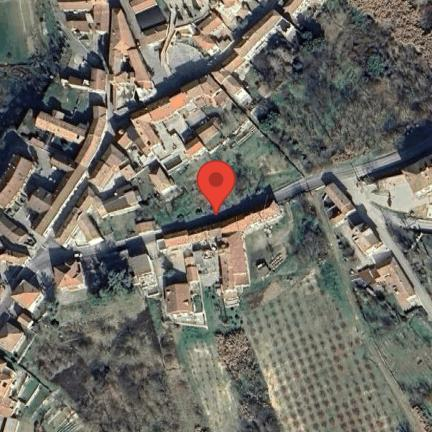area_open: (350, 166, 409, 220)
built: (90, 78, 228, 197), (2, 253, 87, 426), (1, 106, 110, 240), (60, 3, 159, 120), (163, 201, 279, 298), (217, 3, 314, 111), (131, 3, 245, 58), (58, 185, 142, 253), (3, 212, 38, 294), (165, 255, 204, 327), (360, 254, 413, 300), (323, 180, 360, 233), (405, 150, 429, 216), (63, 68, 107, 93), (126, 258, 156, 294), (355, 224, 377, 254), (138, 219, 162, 240)
vegetation_high: (249, 6, 429, 174), (87, 253, 137, 298)
vegetation_low: (24, 193, 429, 431), (6, 6, 68, 148), (110, 170, 206, 227), (222, 129, 286, 202), (389, 224, 431, 297)
